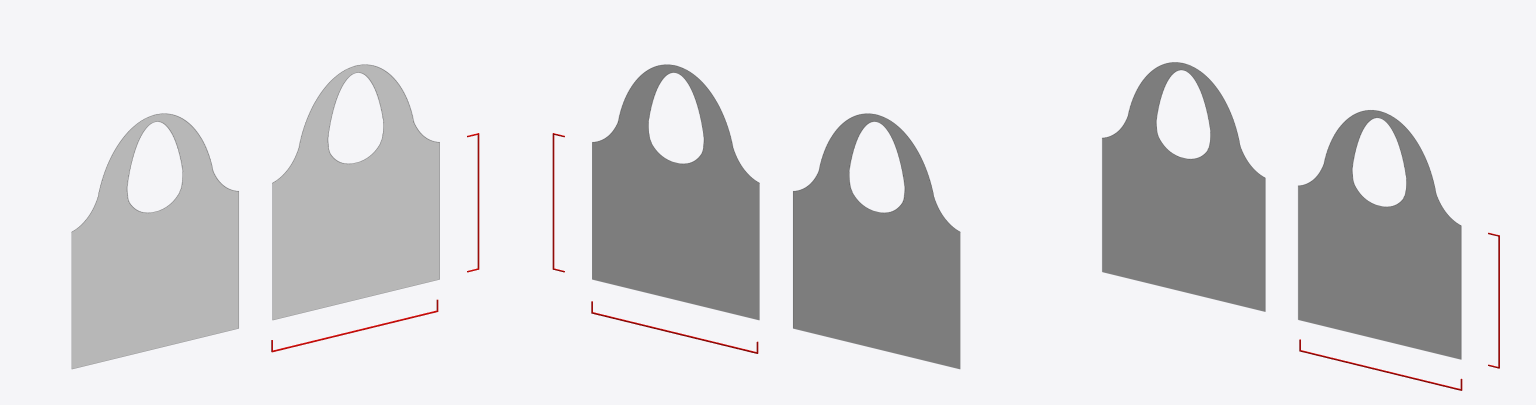
Rendered from 帆布袋-背心袋.glb.
The picture shows the model from 3 angles, left to right: view 1: azimuth 30°, elevation 25°; view 2: azimuth 150°, elevation 25°; view 3: azimuth 330°, elevation 25°; orthographic projection. The views are drawn at different scales.
Visible parts, largest first — view 1: bag, w, h; view 2: bag, w, h; view 3: bag, w.
Part boxes in pixels (box(x1,y1,x2,y2)): bag: box(71, 64, 439, 368); w: box(271, 299, 438, 352); h: box(467, 133, 479, 272); bag: box(592, 64, 960, 368); w: box(591, 301, 758, 353); h: box(552, 133, 564, 272); bag: box(1102, 62, 1461, 359); w: box(1299, 339, 1462, 390).
Bounding box in the file's own units: 0.8717 × 0.4842 × 0.00545.
2 materials, 1 textured.
